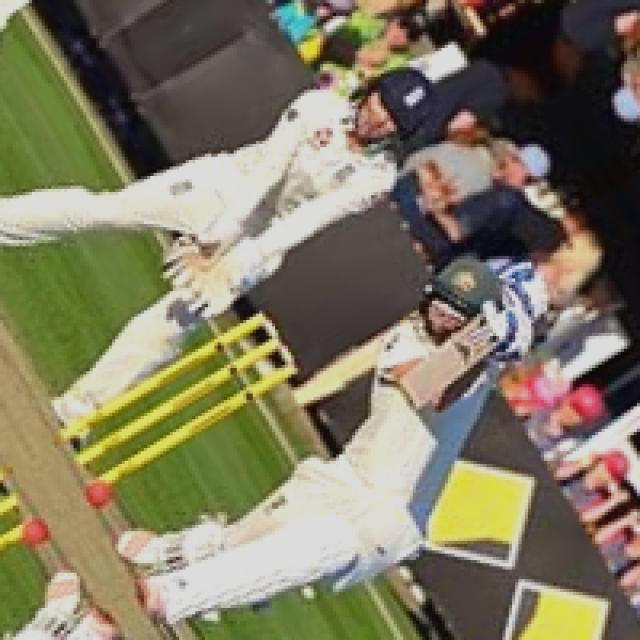bat: (395, 296, 523, 421)
toe: (394, 379, 416, 412)
